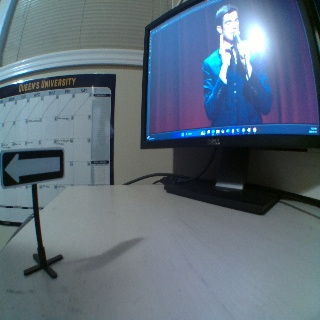sign_oneway_left: (0, 148, 63, 183)
